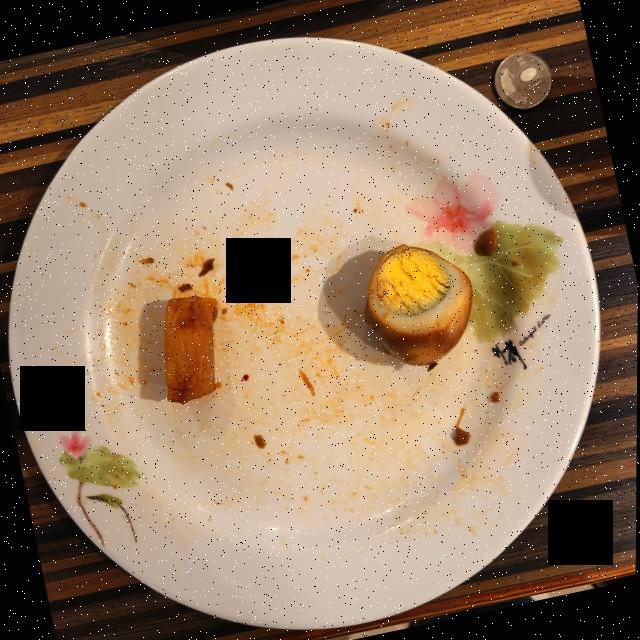coin: (494, 51, 552, 109)
creamy tofu: (164, 295, 218, 403)
soy egg: (364, 244, 473, 368)
